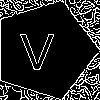V: (20, 24, 55, 70)
